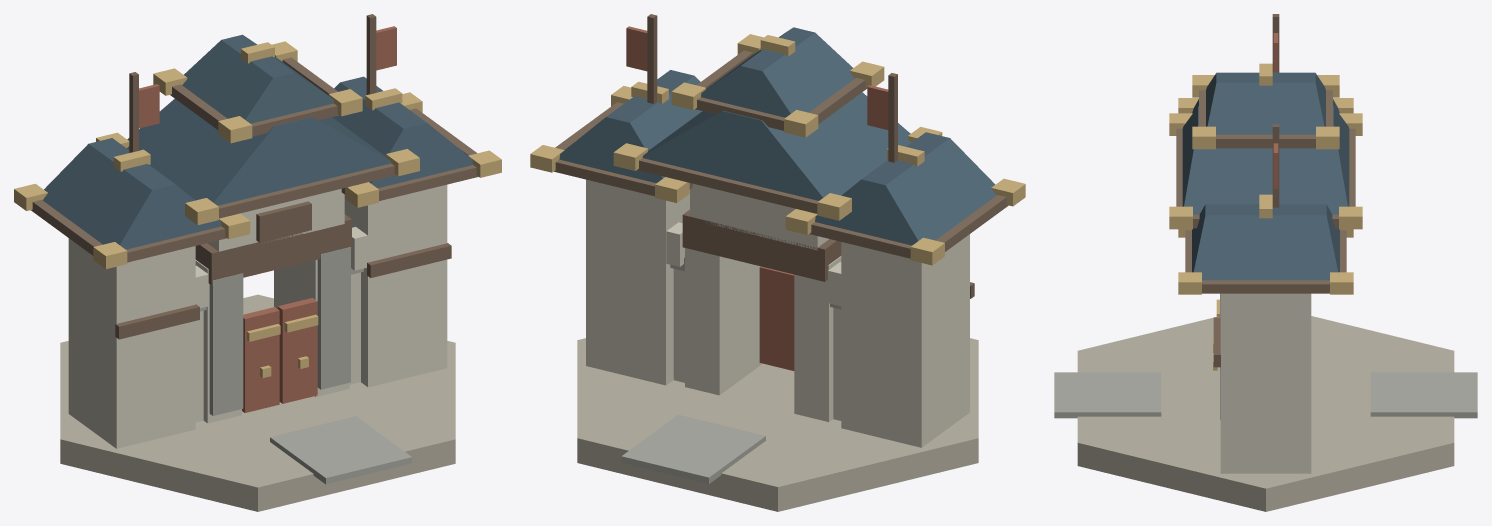
The model's file is gate-medium.glb.
The picture shows the model from 3 angles, left to right: view 1: azimuth 30°, elevation 25°; view 2: azimuth 150°, elevation 25°; view 3: azimuth 270°, elevation 25°; orthographic projection. The views are drawn at different scales.
Parts seen in each view (by area): view 1: hex_foundation, left_watchtower, right_watchtower, main_roof_tiles, left_tower_roof_tiles, upper_roof_tiles, front_road, right_tower_roof_tiles, left_pillar_trim, gate_lintel, right_pillar_trim, right_door_leaf (+33 smaller); view 2: hex_foundation, left_watchtower, right_watchtower, main_roof_tiles, left_tower_roof_tiles, right_gate_pillar, upper_roof_tiles, right_tower_roof_tiles, rear_road, left_gate_pillar, gate_lintel, gate_upper (+26 smaller); view 3: hex_foundation, right_watchtower, right_tower_roof_tiles, main_roof_tiles, upper_roof_tiles, front_road, rear_road, right_tower_roof_right_eave, upper_roof_right_eave, main_roof_corner_1_1, main_roof_corner_1_-1, upper_roof_corner_1_1 (+6 smaller).
Part boxes in pixels (box(x1,y1,x2,y2)): hex_foundation: box(60, 294, 455, 511); left_watchtower: box(68, 238, 195, 448); right_watchtower: box(344, 184, 447, 387); main_roof_tiles: box(127, 99, 390, 205); left_tower_roof_tiles: box(42, 138, 221, 249); upper_roof_tiles: box(182, 34, 333, 123); front_road: box(270, 416, 411, 484); right_tower_roof_tiles: box(332, 76, 473, 188); left_pillar_trim: box(209, 273, 243, 415); gate_lintel: box(195, 214, 351, 285); right_pillar_trim: box(317, 247, 350, 389); right_door_leaf: box(277, 298, 317, 403); hex_foundation: box(577, 338, 978, 511); left_watchtower: box(841, 234, 969, 447); right_watchtower: box(586, 179, 689, 385); main_roof_tiles: box(642, 92, 910, 200); left_tower_roof_tiles: box(815, 132, 996, 245); right_gate_pillar: box(685, 248, 761, 395); upper_roof_tiles: box(701, 27, 854, 117); right_tower_roof_tiles: box(559, 70, 702, 183); rear_road: box(621, 414, 765, 483); left_gate_pillar: box(794, 256, 841, 421); gate_lintel: box(682, 209, 841, 281); gate_upper: box(690, 183, 828, 250); hex_foundation: box(1077, 316, 1454, 511); right_watchtower: box(1220, 293, 1311, 473); right_tower_roof_tiles: box(1192, 204, 1339, 280); main_roof_tiles: box(1182, 106, 1349, 214); upper_roof_tiles: box(1206, 72, 1325, 134); front_road: box(1054, 372, 1161, 418); rear_road: box(1370, 372, 1477, 418); right_tower_roof_right_eave: box(1202, 280, 1329, 293); upper_roof_right_eave: box(1216, 134, 1315, 148); main_roof_corner_1_1: box(1339, 206, 1362, 229); main_roof_corner_1_-1: box(1169, 206, 1192, 229); upper_roof_corner_1_1: box(1316, 126, 1339, 149).
Bounding box in the file's own units: 1.1 × 0.977 × 1.07.
